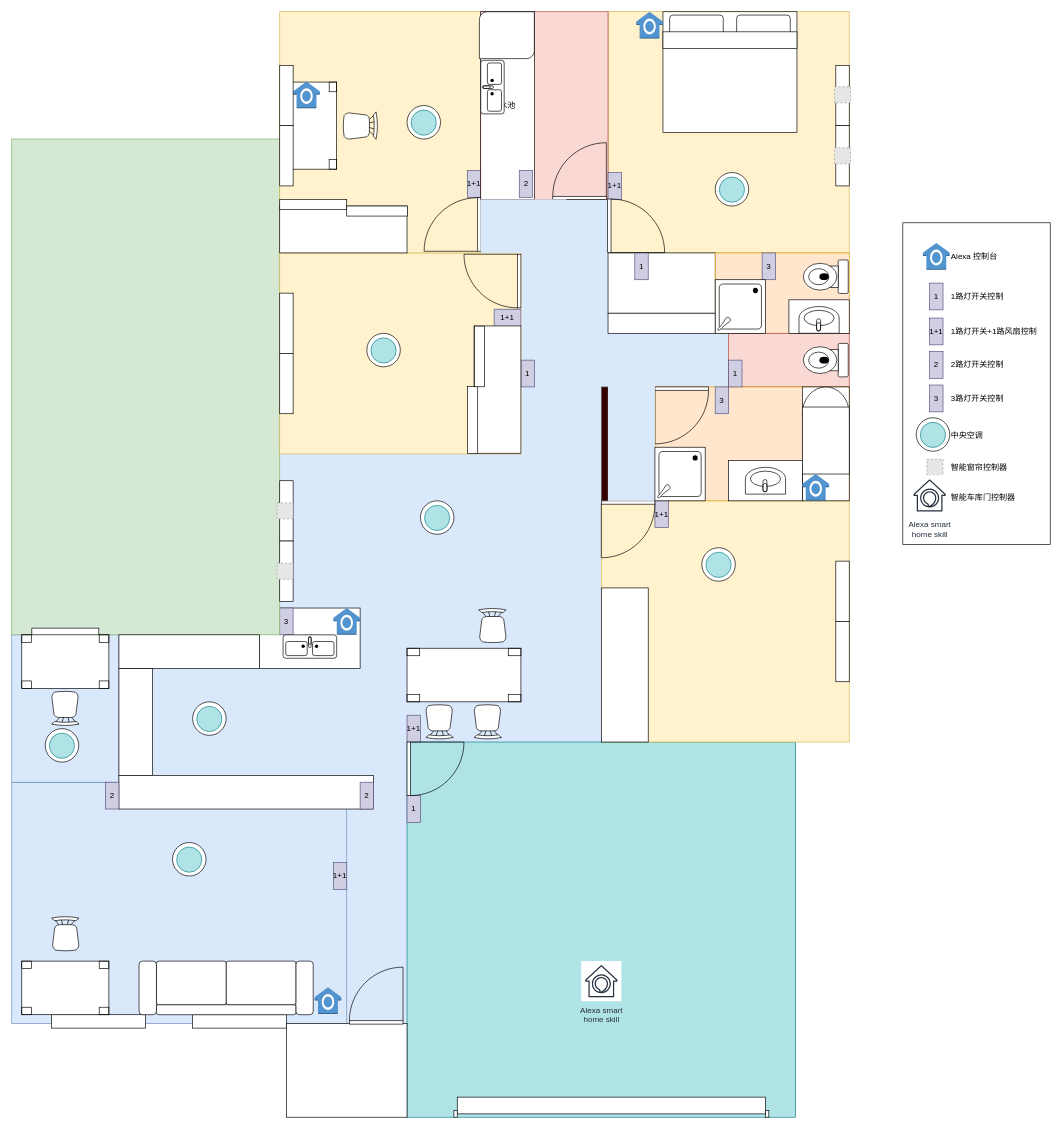
This 1062x1129 diagram has some shape labels left out. Grey dashed boxes stand in for pictures. The box of each missing label's shape, as (x1, y1, x2, y2) in pixels:
Kitchen: (118, 775, 374, 809)
Text: (11, 138, 280, 635)
主卧: (607, 11, 849, 253)
主卧浴室: (715, 252, 849, 333)
储物间: (118, 634, 260, 668)
卫生间: (728, 333, 849, 387)
洗衣房: (480, 11, 608, 199)
浴室: (654, 386, 849, 501)
空房间: (601, 500, 849, 742)
衣柜: (607, 252, 715, 313)
车库: (406, 741, 796, 1117)
